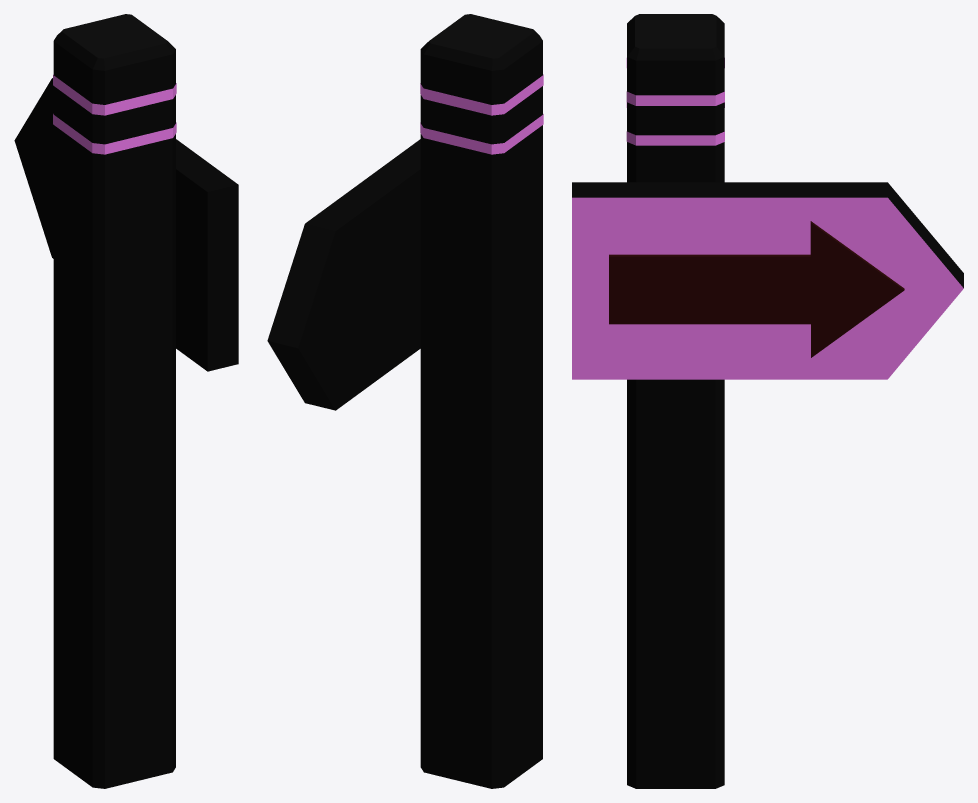
The model's file is W_O_Playground_Arrow_L1.fbx.
The picture shows the model from 3 angles, left to right: view 1: azimuth 30°, elevation 25°; view 2: azimuth 150°, elevation 25°; view 3: azimuth 270°, elevation 25°; orthographic projection.
Visible parts, largest first — view 1: W_O_Playground_Arrow_L1; view 2: W_O_Playground_Arrow_L1; view 3: W_O_Playground_Arrow_L1.
Part boxes in pixels (x1,y1,x2,y2): W_O_Playground_Arrow_L1: (14,14,238,788); W_O_Playground_Arrow_L1: (267,14,543,788); W_O_Playground_Arrow_L1: (572,14,963,788).
Size of the model in its own units: 0.327 by 1.92 by 0.9247.
